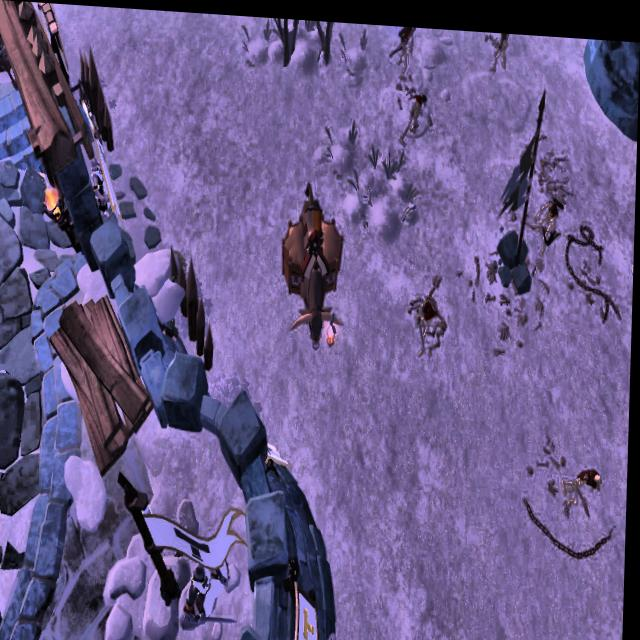enemy_factionUndead: (565, 450, 606, 502), (535, 185, 567, 248), (401, 79, 428, 139), (394, 21, 415, 81), (489, 26, 510, 68)
